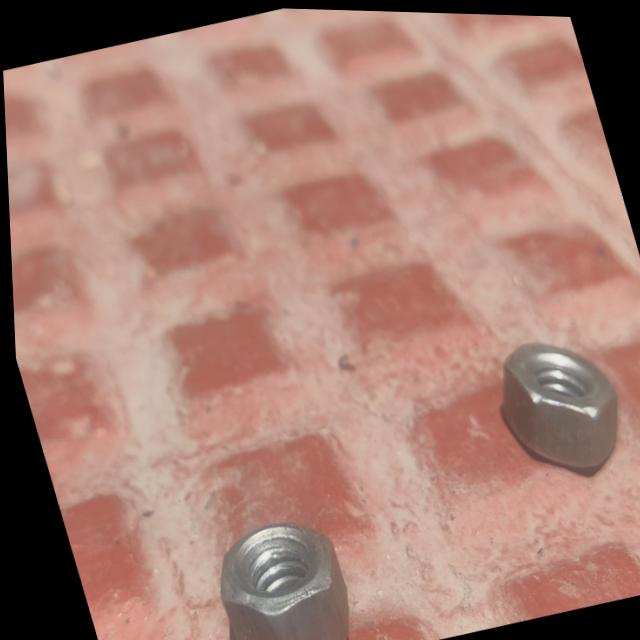disinfected nut: (214, 520, 343, 640), (498, 339, 614, 468)
